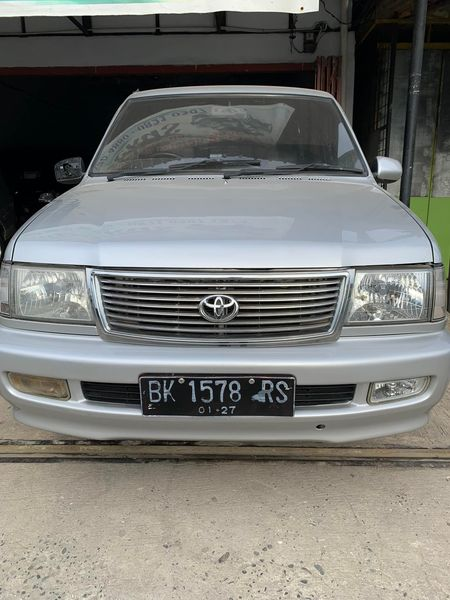plate: (133, 373, 302, 420)
